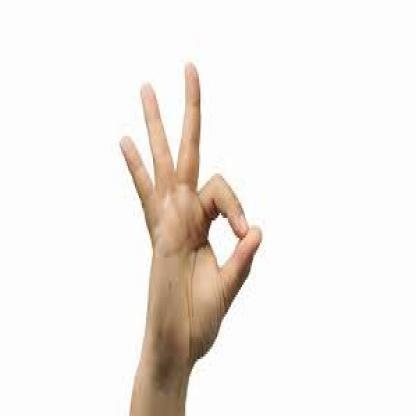ok: (115, 56, 264, 352)
